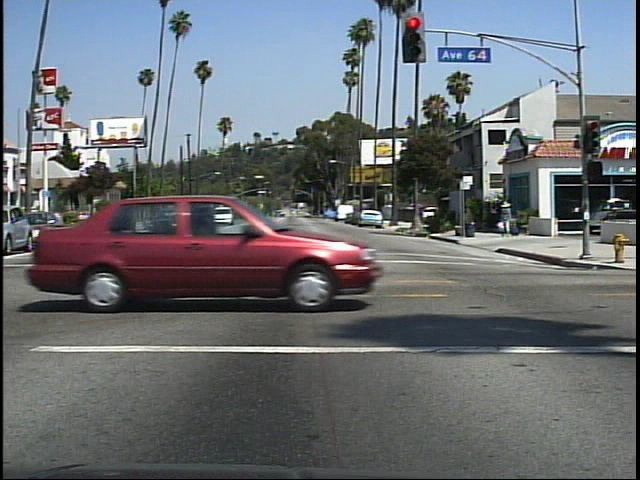person: (494, 195, 520, 240)
